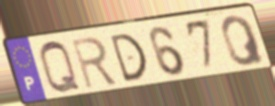6: (148, 24, 187, 79)
7: (183, 17, 215, 73)
D: (107, 31, 150, 85)
Q: (37, 39, 84, 97), (219, 13, 267, 68)
R: (69, 35, 120, 92)
